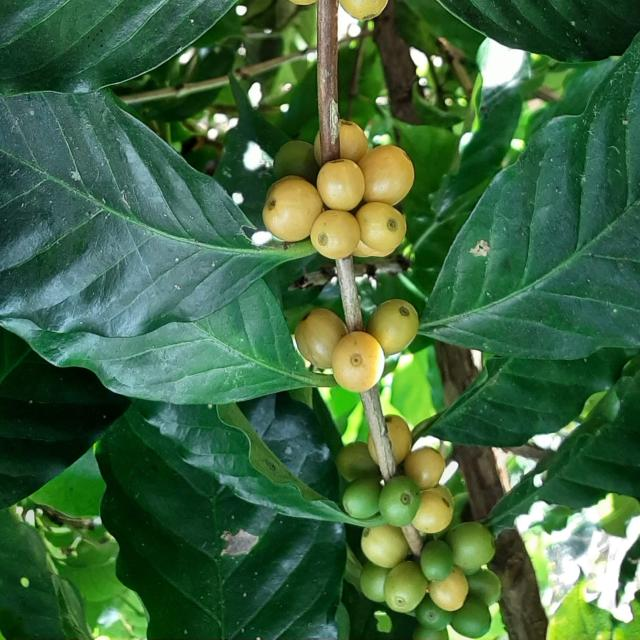green: (446, 523, 496, 575), (384, 562, 428, 614), (379, 477, 422, 528), (451, 596, 492, 639), (337, 442, 380, 482), (343, 479, 383, 520), (420, 540, 455, 582), (416, 596, 453, 632), (467, 570, 502, 607), (360, 563, 391, 603)
red: (263, 175, 323, 241), (359, 144, 415, 205), (332, 331, 385, 392), (356, 202, 407, 254), (310, 209, 361, 259), (317, 158, 365, 211), (405, 447, 446, 490), (385, 415, 413, 464), (339, 118, 369, 162), (353, 240, 395, 257), (368, 435, 379, 464), (314, 131, 322, 164)
yellow: (295, 308, 348, 369), (367, 299, 419, 355), (361, 525, 409, 569), (429, 567, 469, 612)
